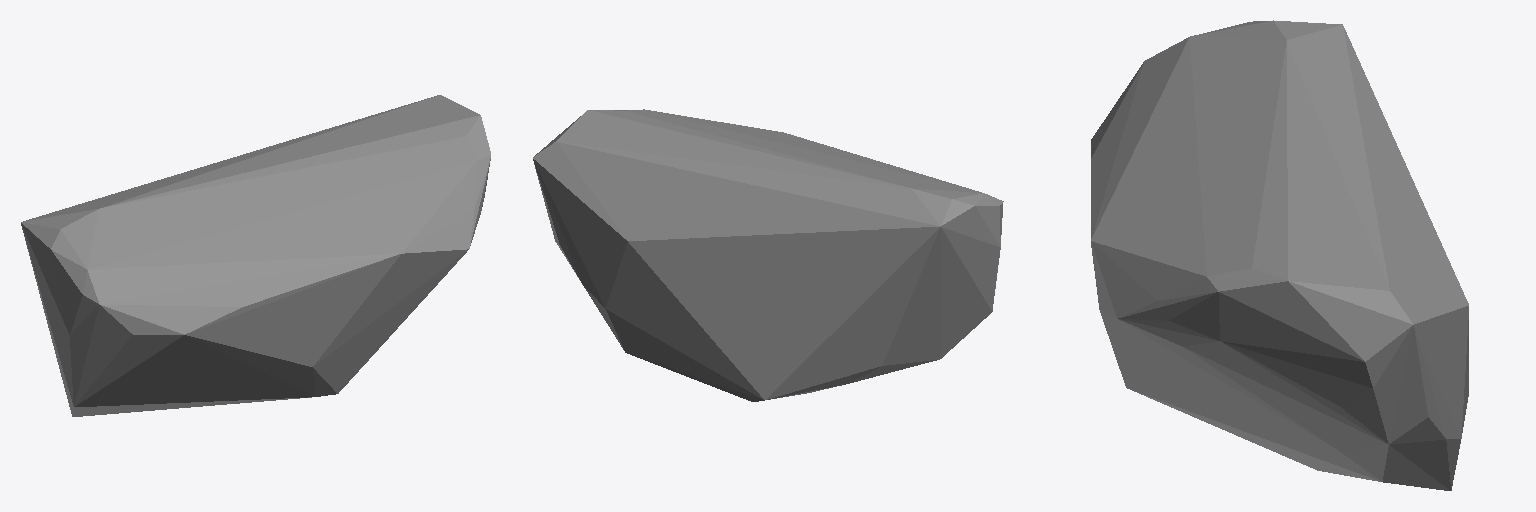
URDF robot description (75_321):
<?xml version="1.0"?>
<robot name="75_321">
  <link name="link">
    <contact>
      <lateral_friction value="0.6"/>
    </contact>
    <inertial>
      <origin xyz="-0.002635498176720743 0.0014176652587583342 0.0024427548150985764" rpy="0 0 0"/>
      <mass value = "0.38189094667713347"/>
      <inertia ixx="0.00012971653150517794" ixy="3.1526425138949364e-05" ixz="1.0929027610556475e-05" iyy="0.0002991814815023084" iyz="-1.3954137703031556e-05" izz="0.00031478280096750786" />
    </inertial>
    <visual name="visual">
      <geometry>
        <mesh filename="75_321.obj"/>
      </geometry>
      <material name="material">
        <color rgba="0.5945816184503099 0.5945816184503099 0.5945816184503099 1.0"/>
      </material>
    </visual>
    <collision name="collision">
      <geometry>
        <mesh filename="75_321.obj"/>
      </geometry>
    </collision>
  </link>
</robot>

--- What the picture shows (computed from the rendered views, not written in the file) ---
The picture shows the robot from 3 angles, left to right: view 1: azimuth 30°, elevation 25°; view 2: azimuth 150°, elevation 25°; view 3: azimuth 270°, elevation 25°; orthographic projection.
Model 75_321 with 1 links and 0 joints (none), rooted at link, posed all joints at 0.
Visible links, largest first — view 1: link; view 2: link; view 3: link.
Link boxes in pixels (x1=…): link: x1=21, y1=95, x2=490, y2=416; link: x1=533, y1=109, x2=1003, y2=401; link: x1=1091, y1=20, x2=1468, y2=490.
Bounding box of the posed robot: 0.1096 × 0.0585 × 0.0511 m (x, y, z).
1 mesh visuals loaded from 1 distinct referenced files (1 OBJ).
